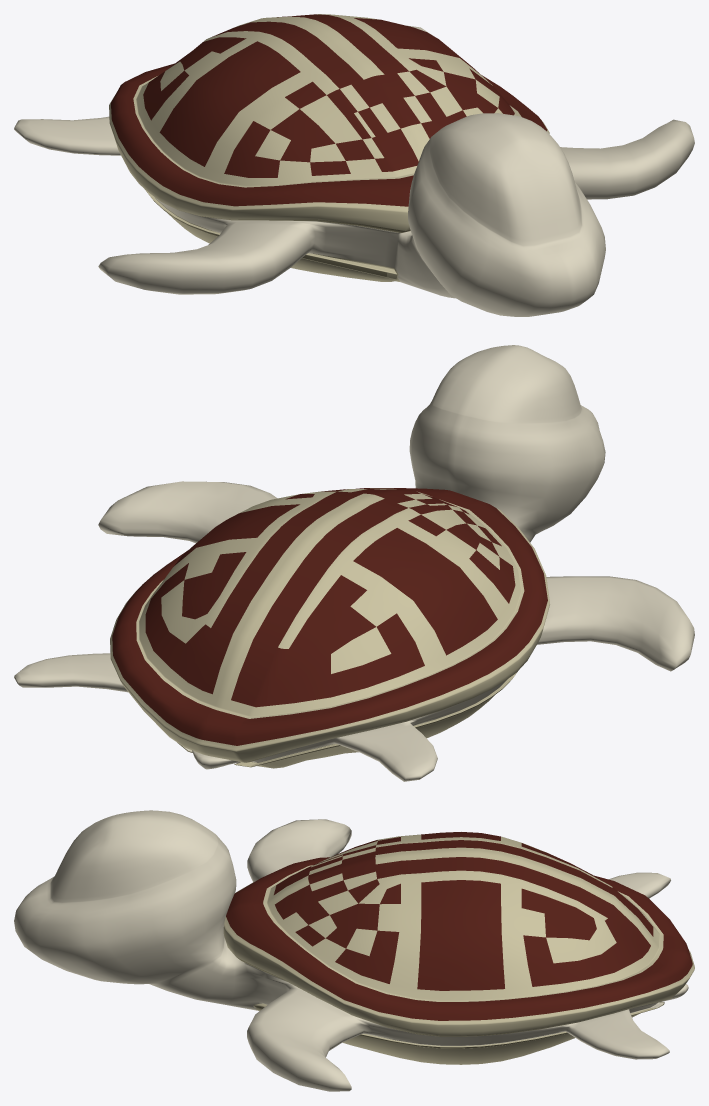
The model's file is Tortuga_Carey.fbx.
The picture shows the model from 3 angles, top to bottom: view 1: azimuth 30°, elevation 25°; view 2: azimuth 150°, elevation 25°; view 3: azimuth 270°, elevation 25°; orthographic projection. The views are drawn at different scales.
Parts seen in each view (by area): view 1: Tortuga; view 2: Tortuga; view 3: Tortuga.
Part boxes in pixels (x1,y1,x2,y2): Tortuga: (14, 14, 694, 316); Tortuga: (14, 345, 694, 781); Tortuga: (14, 810, 694, 1091).
Size of the model in its own units: 7.11 by 2.8 by 7.91.
